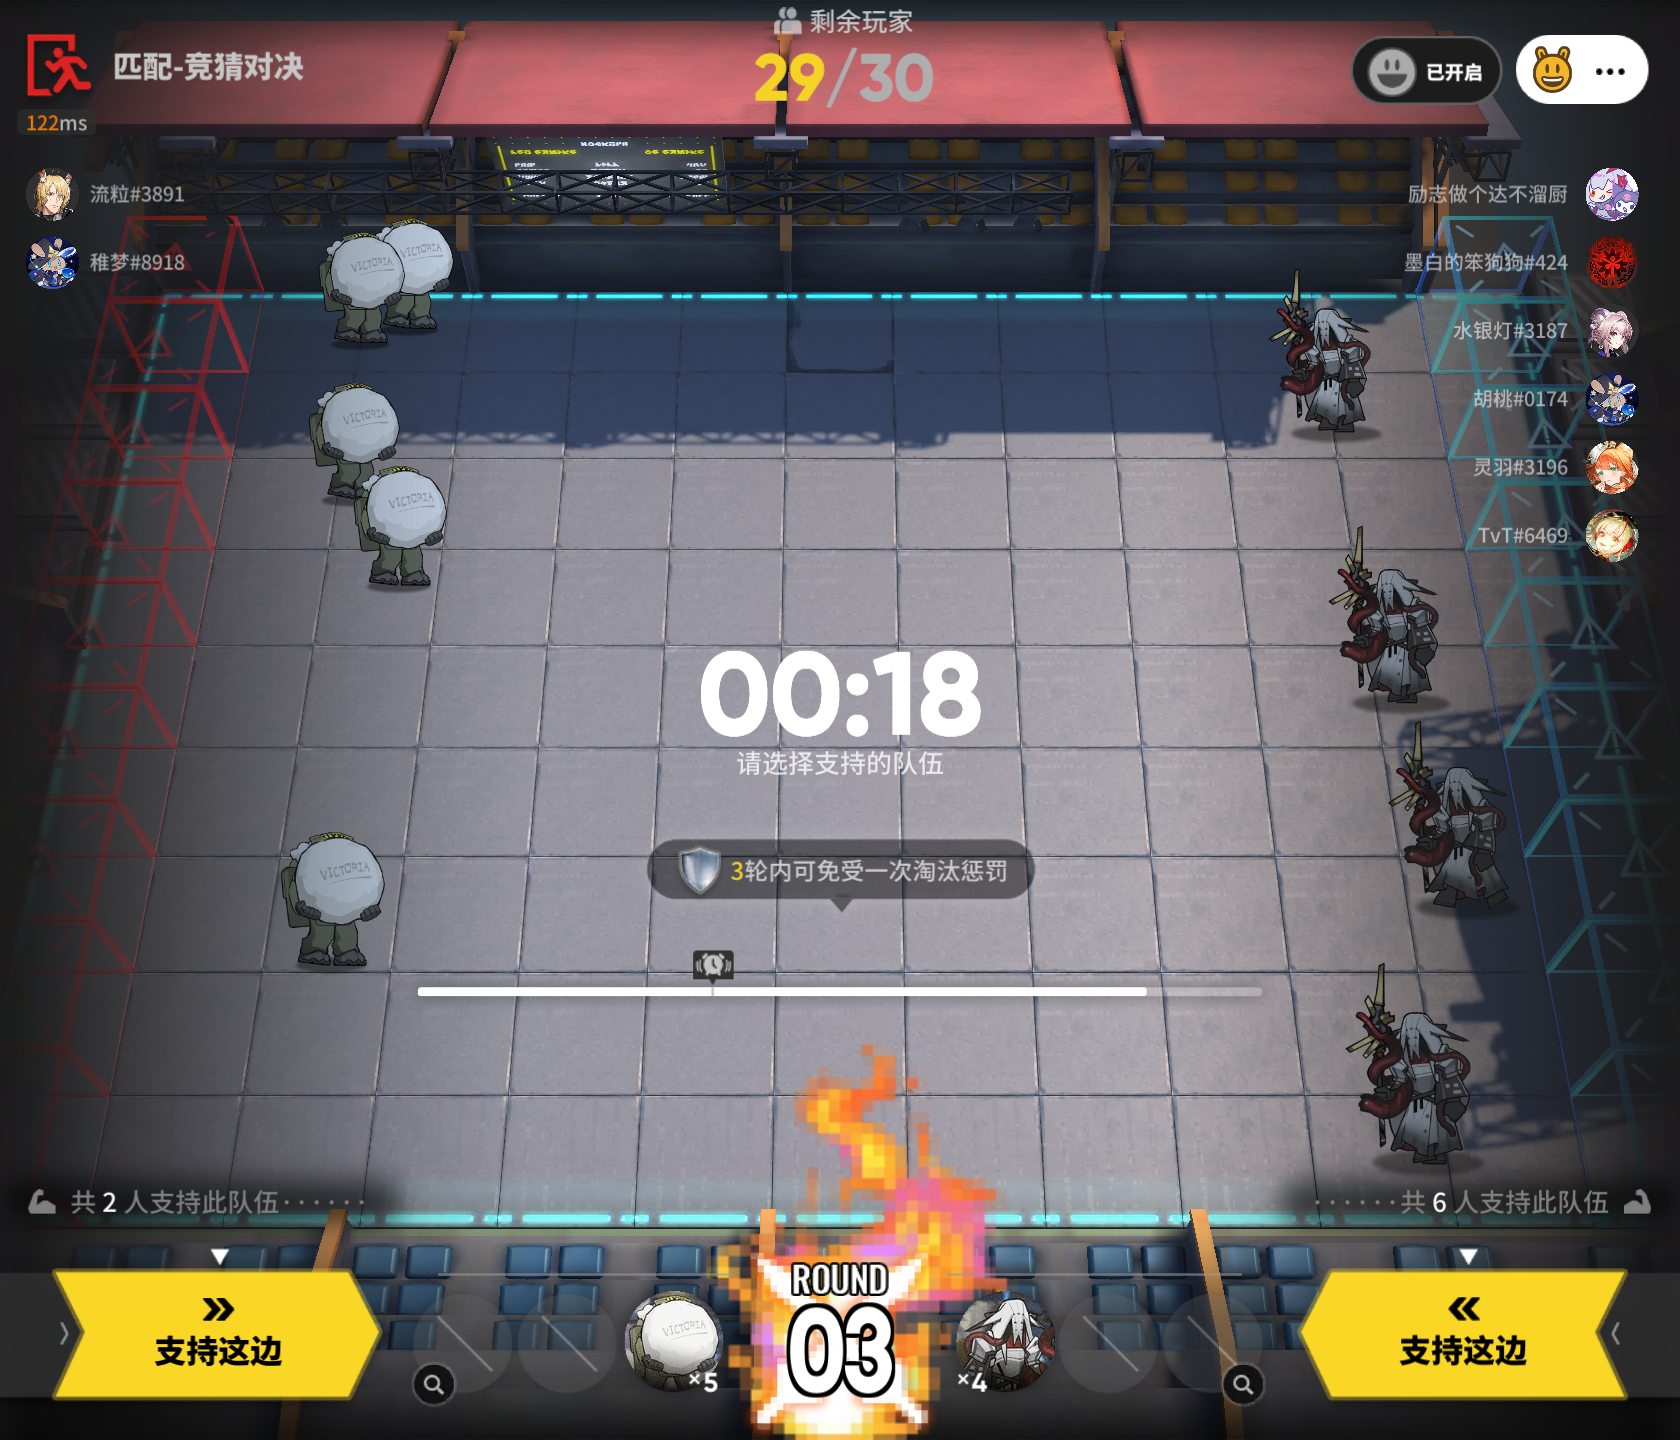巨大雪球投手: (270, 824, 403, 980), (349, 460, 461, 591), (306, 380, 410, 504), (624, 1287, 724, 1401), (371, 211, 451, 344), (316, 229, 400, 343)
重生术师: (1350, 954, 1489, 1177), (1389, 711, 1519, 911), (1340, 523, 1444, 701), (1279, 269, 1383, 436), (959, 1291, 1059, 1396)
